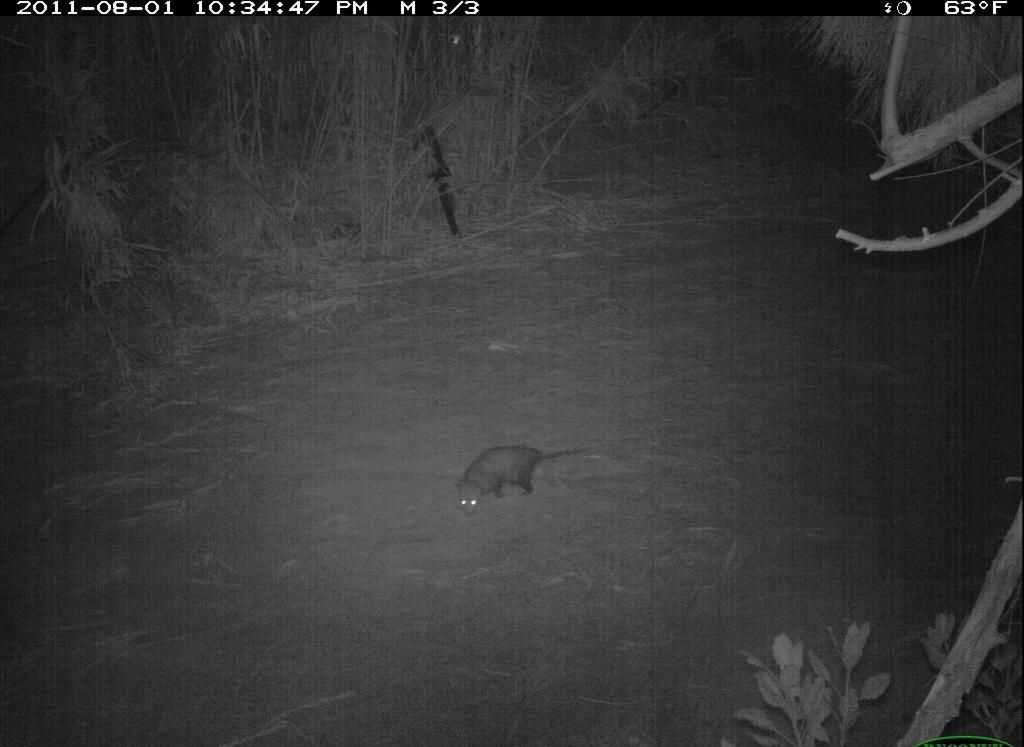opossum: (446, 425, 598, 523)
